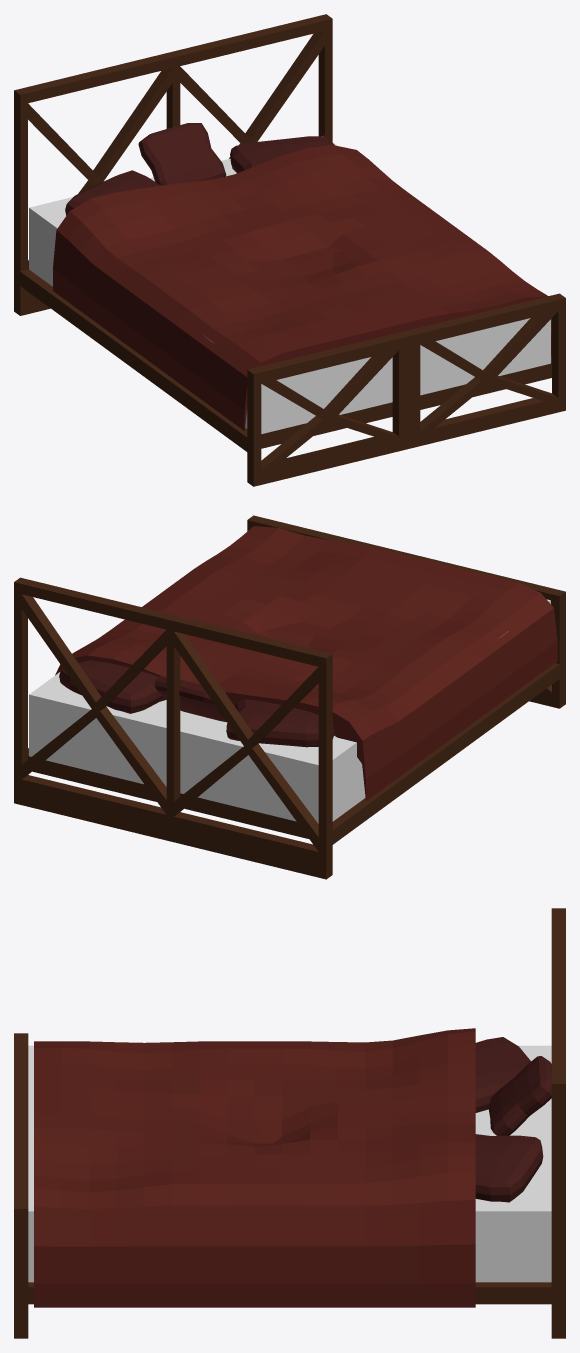
Rendered from ParentsBed.fbx.
The picture shows the model from 3 angles, top to bottom: view 1: azimuth 30°, elevation 25°; view 2: azimuth 150°, elevation 25°; view 3: azimuth 270°, elevation 25°; orthographic projection. The views are drawn at different scales.
Parts seen in each view (by area): view 1: Blanket, BedFrame, Matress, Pillow3, Pillow2, Pillow1; view 2: Blanket, BedFrame, Matress, Pillow1, Pillow2, Pillow3; view 3: Blanket, BedFrame, Matress, Pillow2, Pillow3, Pillow1.
Part boxes in pixels (bbox=[...]): Blanket: bbox=[53, 144, 551, 430]; BedFrame: bbox=[14, 14, 565, 486]; Matress: bbox=[29, 136, 550, 433]; Pillow3: bbox=[138, 123, 226, 185]; Pillow2: bbox=[230, 136, 334, 173]; Pillow1: bbox=[65, 170, 162, 215]; Blanket: bbox=[55, 526, 557, 800]; BedFrame: bbox=[14, 515, 565, 879]; Matress: bbox=[29, 599, 550, 823]; Pillow1: bbox=[226, 699, 334, 747]; Pillow2: bbox=[59, 660, 166, 713]; Pillow3: bbox=[154, 676, 226, 722]; Blanket: bbox=[34, 1028, 475, 1307]; BedFrame: bbox=[14, 908, 565, 1338]; Matress: bbox=[28, 1045, 551, 1282]; Pillow2: bbox=[475, 1134, 543, 1202]; Pillow3: bbox=[488, 1056, 551, 1135]; Pillow1: bbox=[475, 1037, 530, 1112].
Bounding box in the file's own units: 326 × 215 × 422.
